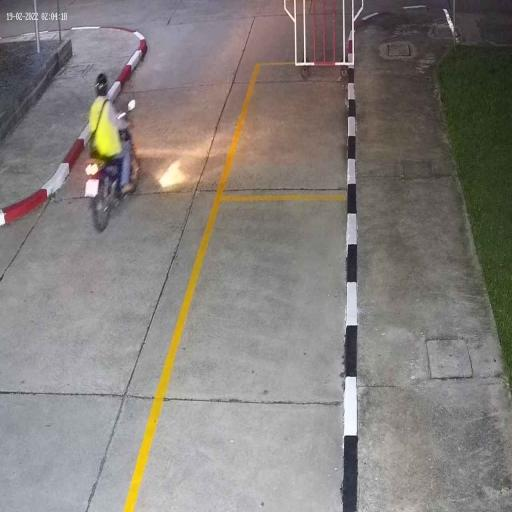motorcycle: (83, 109, 141, 234)
